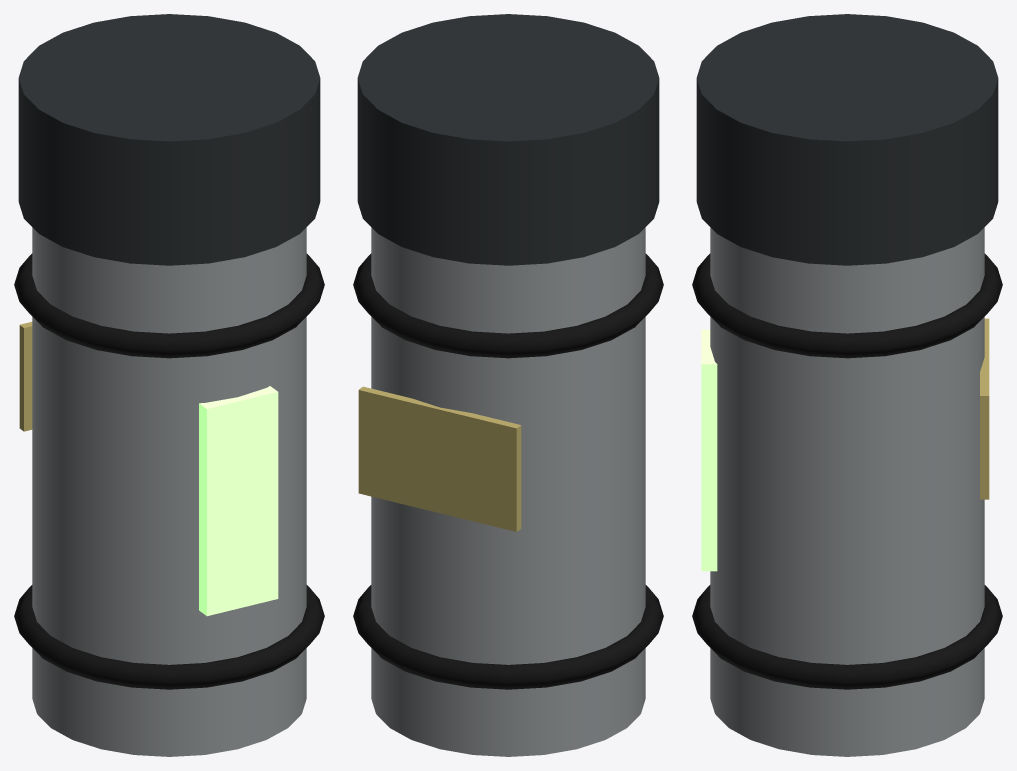
File: sample_container.glb
3 renders of one model, left to right at view 1: azimuth 30°, elevation 25°; view 2: azimuth 150°, elevation 25°; view 3: azimuth 270°, elevation 25°, orthographic.
Parts seen in each view (by area): view 1: sample_container; view 2: sample_container; view 3: sample_container.
Part boxes in pixels (x1=…): sample_container: x1=14, y1=14, x2=324, y2=756; sample_container: x1=353, y1=14, x2=663, y2=756; sample_container: x1=692, y1=14, x2=1002, y2=756.
Size of the model in its own units: 0.068 by 0.15 by 0.068.
